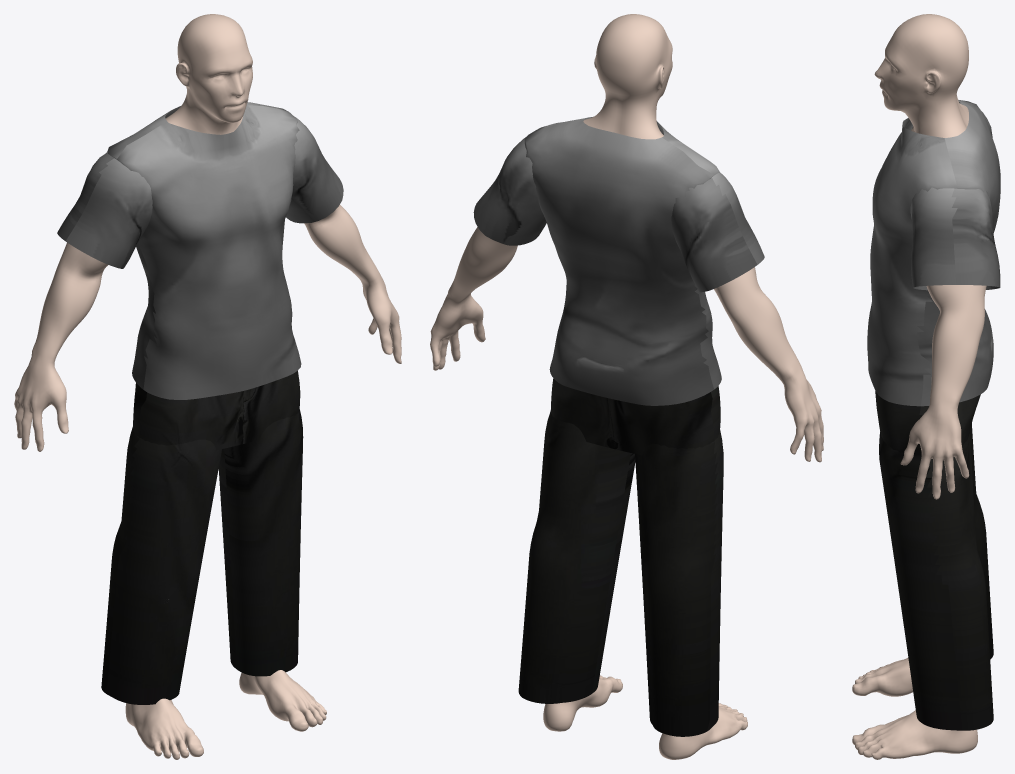
3 renders of one model, left to right at view 1: azimuth 30°, elevation 25°; view 2: azimuth 150°, elevation 25°; view 3: azimuth 270°, elevation 25°, orthographic.
Parts seen in each view (by area): view 1: garment.tshirt, garment.pants, human; view 2: garment.pants, garment.tshirt, human; view 3: garment.tshirt, garment.pants, human.
Boxes of the visible parts, <box> form: garment.tshirt: <box>57,102,343,399</box>; garment.pants: <box>101,371,303,704</box>; human: <box>14,14,401,759</box>; garment.pants: <box>518,378,723,736</box>; garment.tshirt: <box>473,116,764,405</box>; human: <box>430,14,823,759</box>; garment.tshirt: <box>867,100,1000,406</box>; garment.pants: <box>875,391,993,730</box>; human: <box>852,14,986,759</box>.
Bounding box in the file's own units: 1.01 × 1.8 × 0.3447.
Materials: 3 (2 with a texture image).
